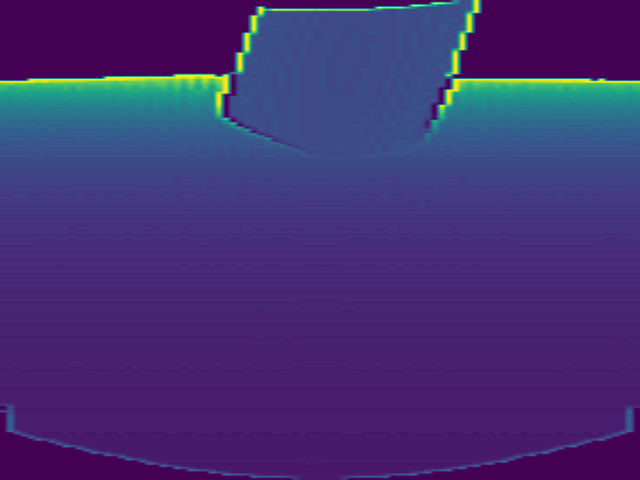cylinder: (217, 3, 480, 157)
